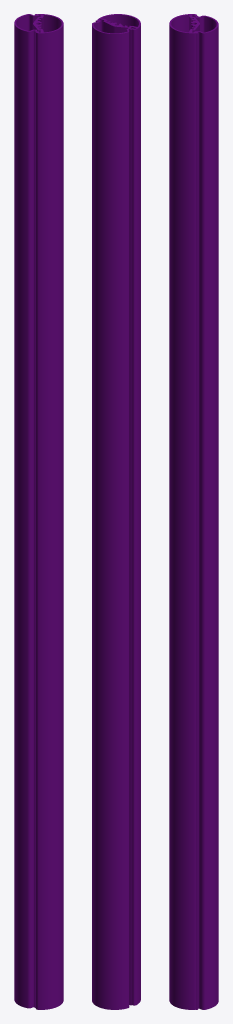
File: 装配体.obj
The picture shows the model from 3 angles, left to right: view 1: azimuth 90°, elevation 25°; view 2: azimuth 150°, elevation 25°; view 3: azimuth 270°, elevation 25°; orthographic projection.
Visible parts, largest first — view 1: ____________; view 2: ____________; view 3: ____________.
Boxes of the visible parts, x1,y1,x2,y2 form: ____________: (14, 14, 63, 1009); ____________: (92, 14, 140, 1009); ____________: (169, 14, 218, 1009).
Bounding box in the file's own units: 25.43 × 600 × 27.33.
